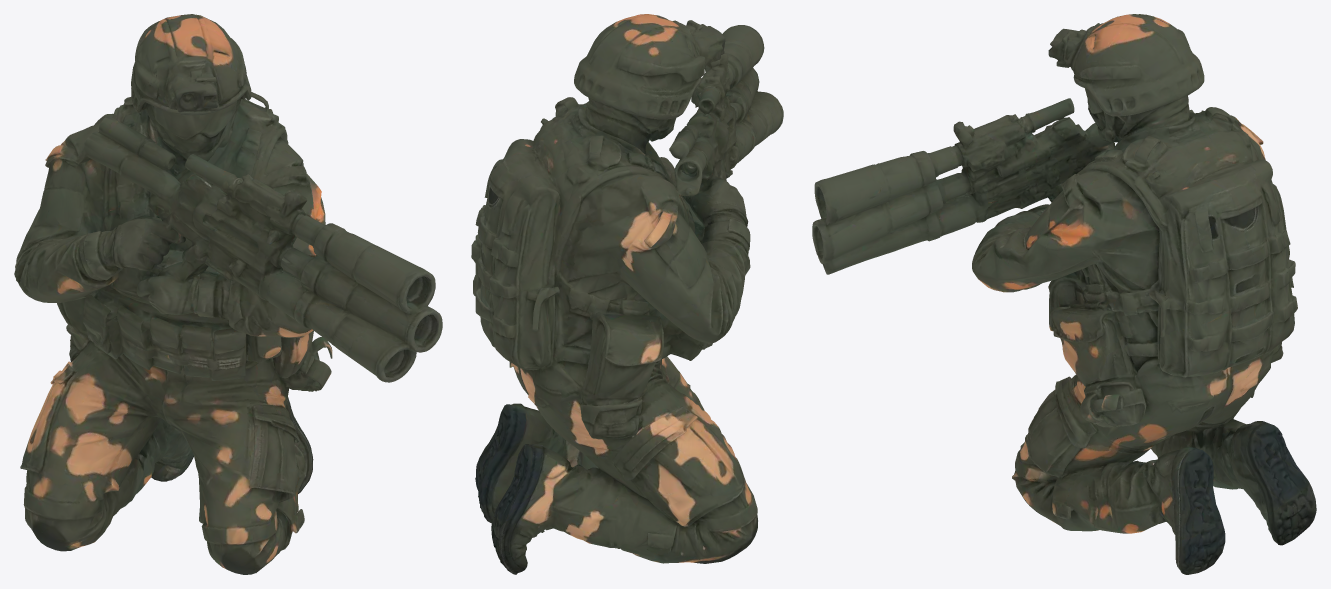
The model's file is atgm_team.glb.
3 renders of one model, left to right at view 1: azimuth 30°, elevation 25°; view 2: azimuth 150°, elevation 25°; view 3: azimuth 270°, elevation 25°, orthographic. The views are drawn at different scales.
Bounding box in the file's own units: 1.07 × 1.9 × 1.74.
Materials: 1 (1 with a texture image).
